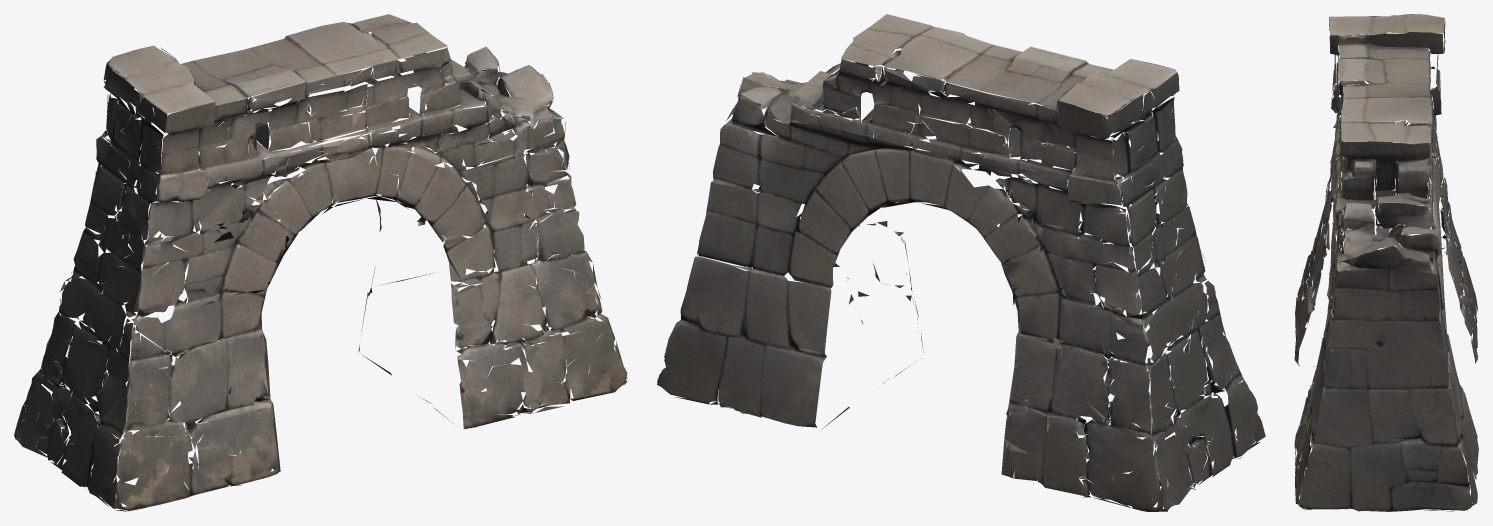
Rendered from brokenGate.glb.
3 views of the same model, side by side, from view 1: azimuth 30°, elevation 25°; view 2: azimuth 150°, elevation 25°; view 3: azimuth 270°, elevation 25° (orthographic). The views are drawn at different scales.
Parts seen in each view (by area): view 1: Prop_brokenGate; view 2: Prop_brokenGate; view 3: Prop_brokenGate.
Part boxes in pixels (x1,y1,x2,y2): Prop_brokenGate: (14,14,627,511); Prop_brokenGate: (657,14,1265,511); Prop_brokenGate: (1294,14,1478,511).
Bounding box in the file's own units: 8.58 × 5.98 × 3.13.
Materials: 1 (1 with a texture image).
